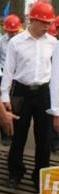boots: (6, 177, 20, 188), (0, 154, 10, 168)
hard-hat: (0, 0, 18, 15)
ppe-suit: (0, 19, 30, 184)
